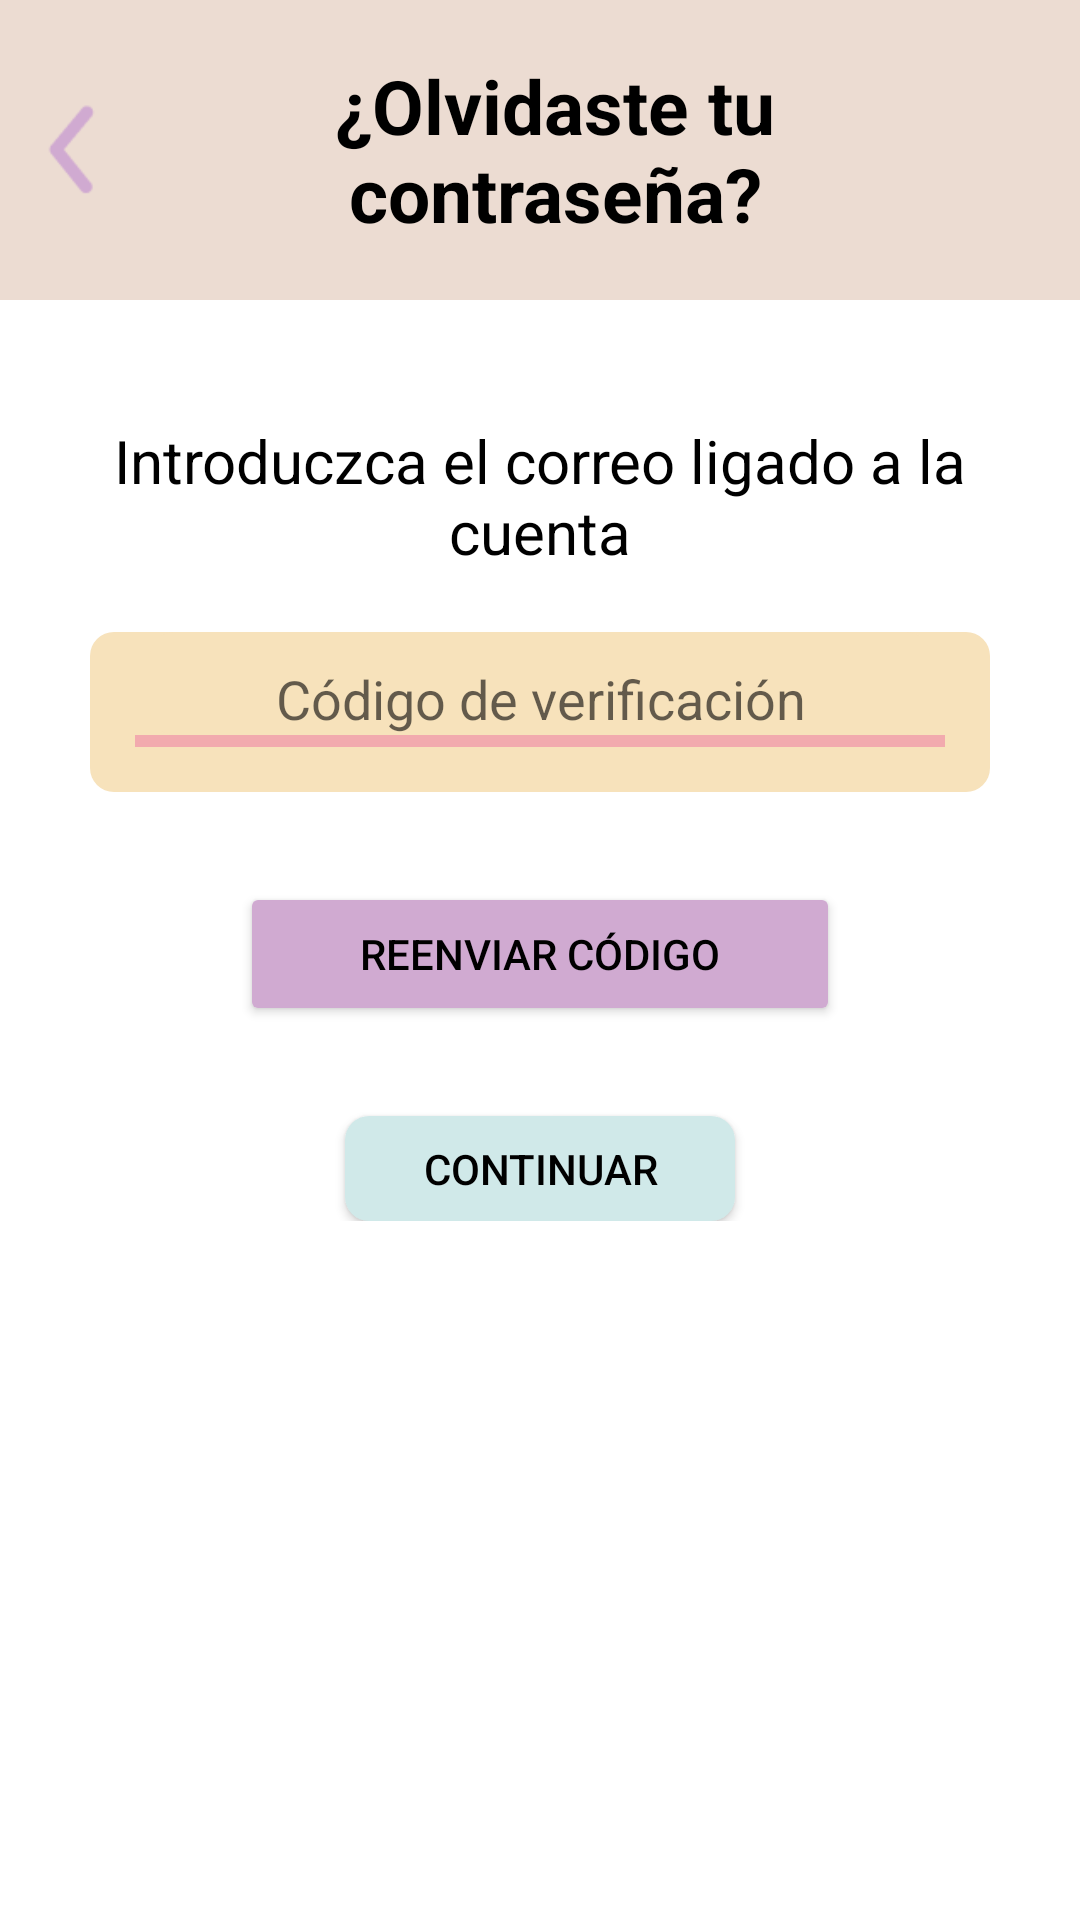

Icons on this 1080w x 1920h Android screen, each with its box as (x1, y1, x2, y2):
back: (50, 106, 93, 193)
